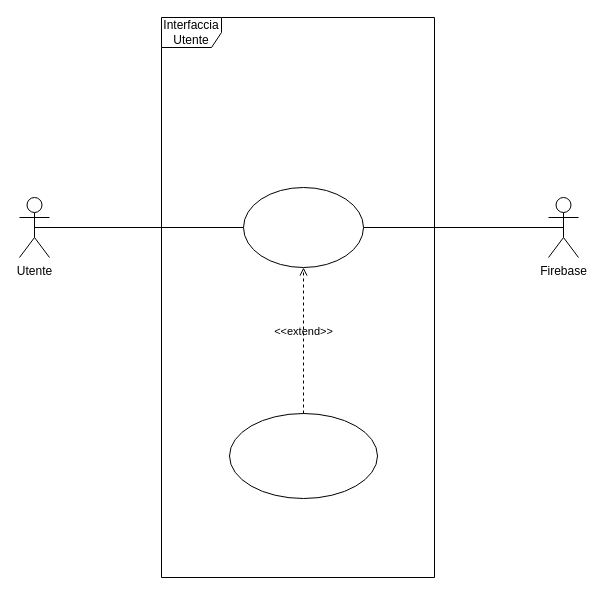
Some shapes in this 604 by 595 pixel diagram are drawn without their labels. Each missing label, with the centre of its shape:
"UC05: Visualizzazione pagina finale laboratorio" belongs at point 303,227.
"UC3.1: Messaggiodi errore generico in caso di fallimento recupero `currentStep`" belongs at point 303,455.
